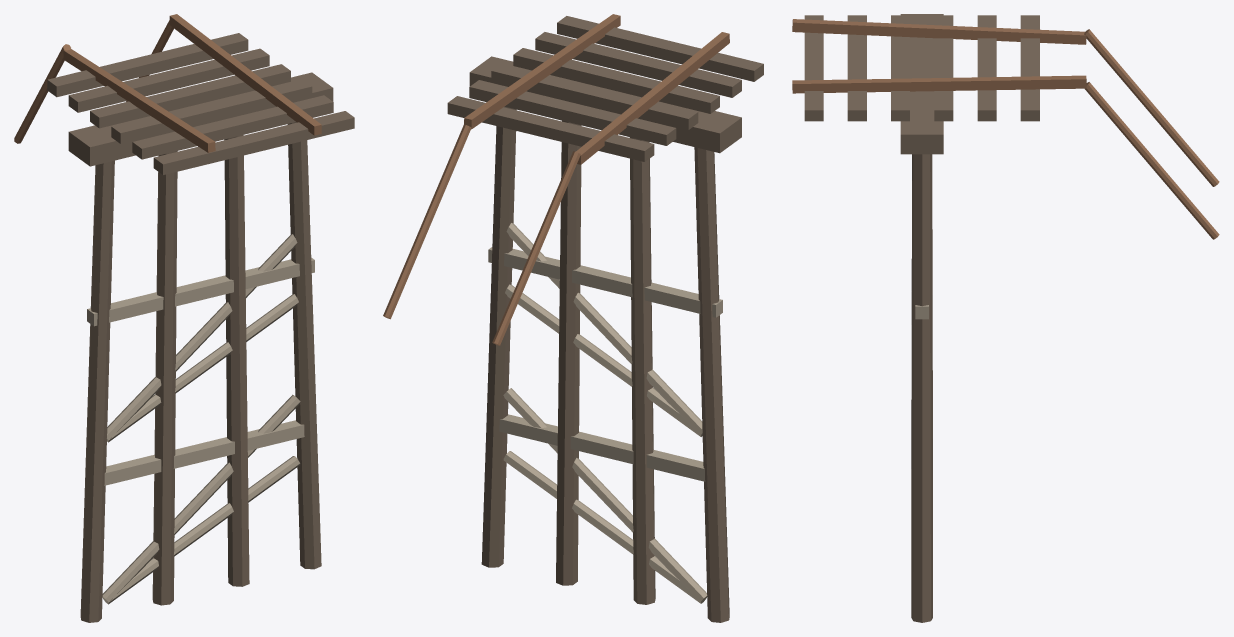
File: TrestleBent.glb
The picture shows the model from 3 angles, left to right: view 1: azimuth 30°, elevation 25°; view 2: azimuth 150°, elevation 25°; view 3: azimuth 270°, elevation 25°; orthographic projection. The views are drawn at different scales.
Parts seen in each view (by area): view 1: Limb.054, Limb.055, Limb.057, Limb.056, Tie, Tie.005, Tie.004, Tie.001, Tie.002, Tie.003, Brace.001, Brace (+8 smaller); view 2: Limb.054, Limb.055, Limb.057, Limb.056, Tie.005, Tie.004, Tie, Tie.001, Tie.003, Tie.002, Brace, Brace.001 (+9 smaller); view 3: Limb.057, Rail.001, Rail, Cap, Limb.062, Limb.063, Tie.005, Tie.004, Tie, Tie.001, Tie.003, Tie.002.
Boxes of the visible parts, x1,y1,x2,y2 form: Limb.054: [80, 160, 114, 622]; Limb.055: [152, 151, 177, 605]; Limb.057: [287, 122, 321, 569]; Limb.056: [224, 135, 249, 586]; Tie: [153, 111, 354, 174]; Tie.005: [47, 33, 248, 97]; Tie.004: [68, 48, 269, 112]; Tie.001: [132, 95, 333, 159]; Tie.002: [111, 79, 312, 143]; Tie.003: [90, 64, 290, 128]; Brace.001: [87, 257, 314, 326]; Brace: [104, 420, 304, 485]; Limb.054: [694, 147, 729, 622]; Limb.055: [629, 137, 655, 604]; Limb.057: [481, 106, 516, 567]; Limb.056: [556, 120, 581, 585]; Tie.005: [447, 96, 654, 161]; Tie.004: [469, 80, 676, 145]; Tie: [557, 16, 763, 81]; Tie.001: [535, 32, 741, 97]; Tie.003: [491, 64, 698, 129]; Tie.002: [513, 48, 719, 113]; Brace: [499, 414, 705, 481]; Brace.001: [488, 247, 722, 317]; Limb.057: [911, 154, 932, 622]; Rail.001: [792, 75, 1086, 93]; Rail: [792, 19, 1086, 44]; Cap: [900, 14, 943, 154]; Limb.062: [1084, 29, 1219, 186]; Limb.063: [1085, 82, 1219, 239]; Tie.005: [1020, 15, 1039, 121]; Tie.004: [977, 15, 996, 121]; Tie: [804, 15, 823, 121]; Tie.001: [847, 15, 866, 121]; Tie.003: [934, 15, 953, 121]; Tie.002: [891, 15, 909, 121].
Bounding box in the file's own units: 3.3 × 6.6 × 4.94.
